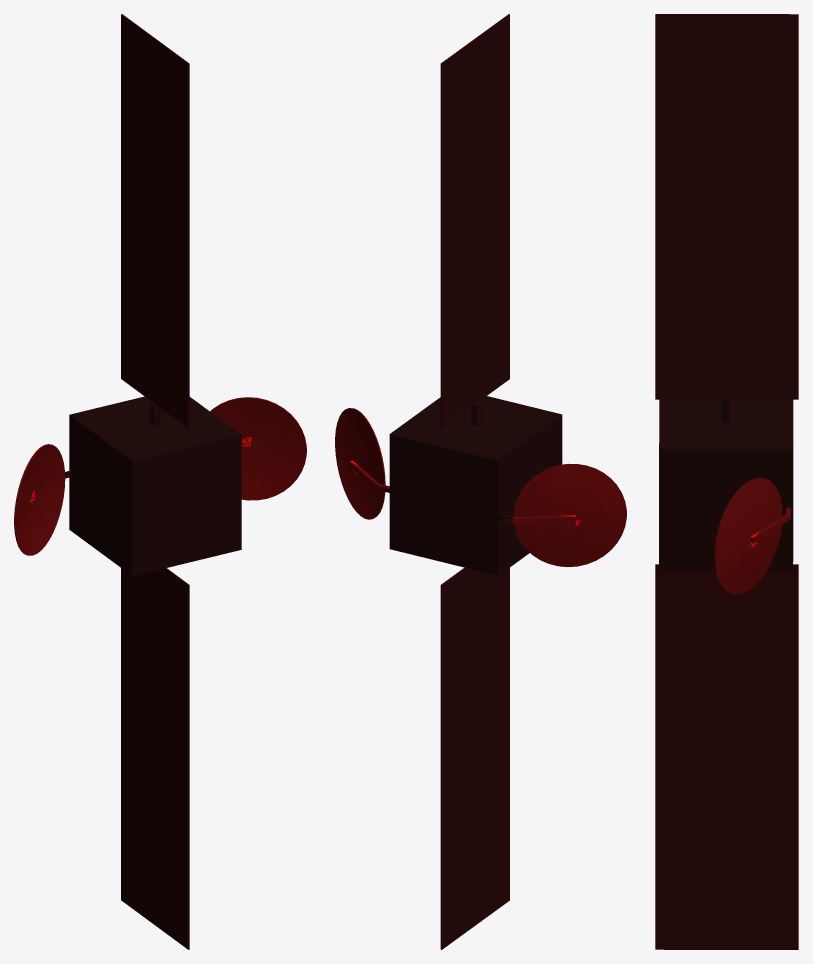
Rendered from matlib_astra.obj.
3 renders of one model, left to right at view 1: azimuth 30°, elevation 25°; view 2: azimuth 150°, elevation 25°; view 3: azimuth 270°, elevation 25°, orthographic. The views are drawn at different scales.
Visible parts, largest first — view 1: mesh1; view 2: mesh1; view 3: mesh1.
Part boxes in pixels (x1,y1,x2,y2): mesh1: [14, 14, 306, 949]; mesh1: [335, 14, 626, 949]; mesh1: [655, 14, 798, 949].
Bounding box in the file's own units: 13.7 × 39.65 × 5.51.
